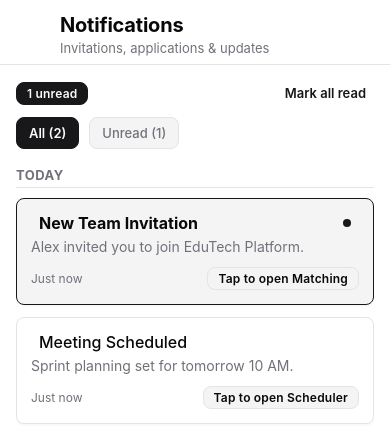
Test: Notifications (Phase 7 - Feature 15) › filters notifications when Unread filter chip is pressed
This screenshot has width=390, height=441.
expect the text "New Team Invitation" is shown: met, box [39,213,198,233]
Click the button "Unread (1)" at (134, 133), box [89,117,179,149]
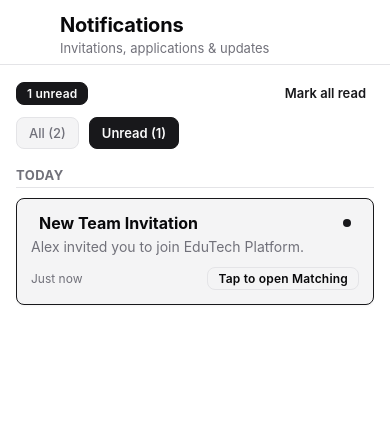
expect the text "New Team Invitation" is shown: met, box [39,213,198,233]
expect the text "Meeting Scheduled" is gone: met
